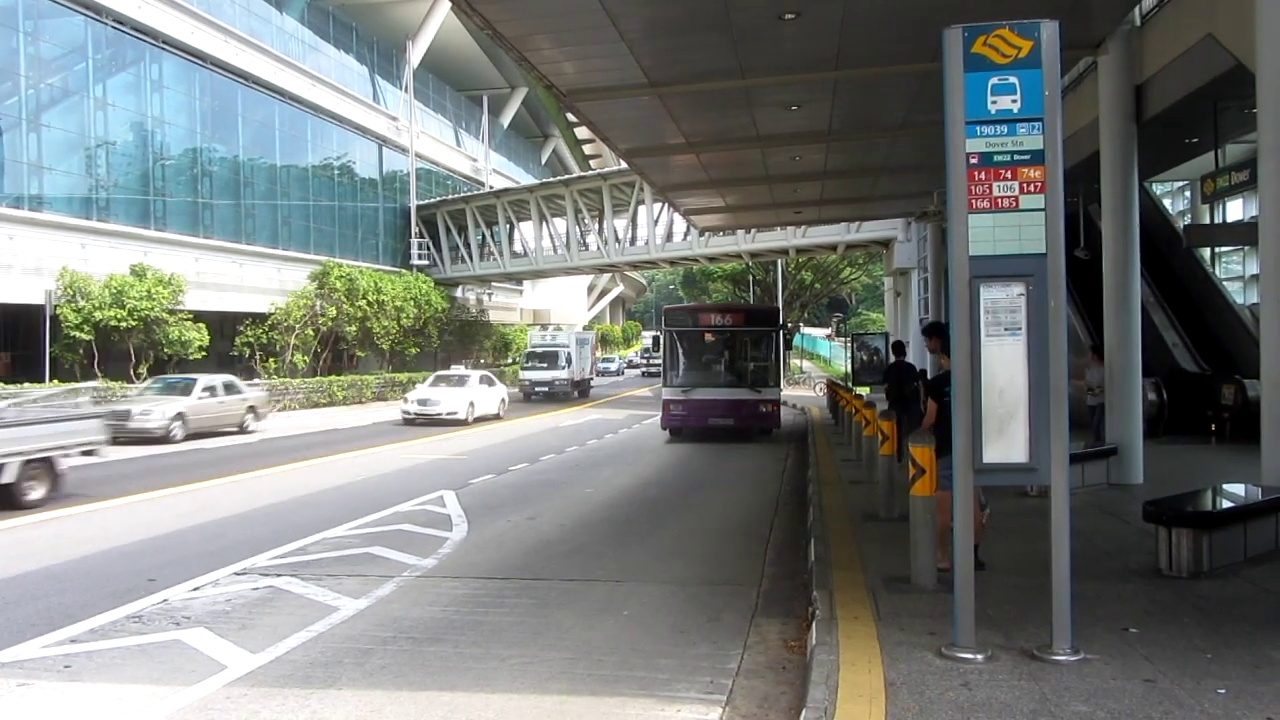bus panel: (696, 311, 747, 328)
